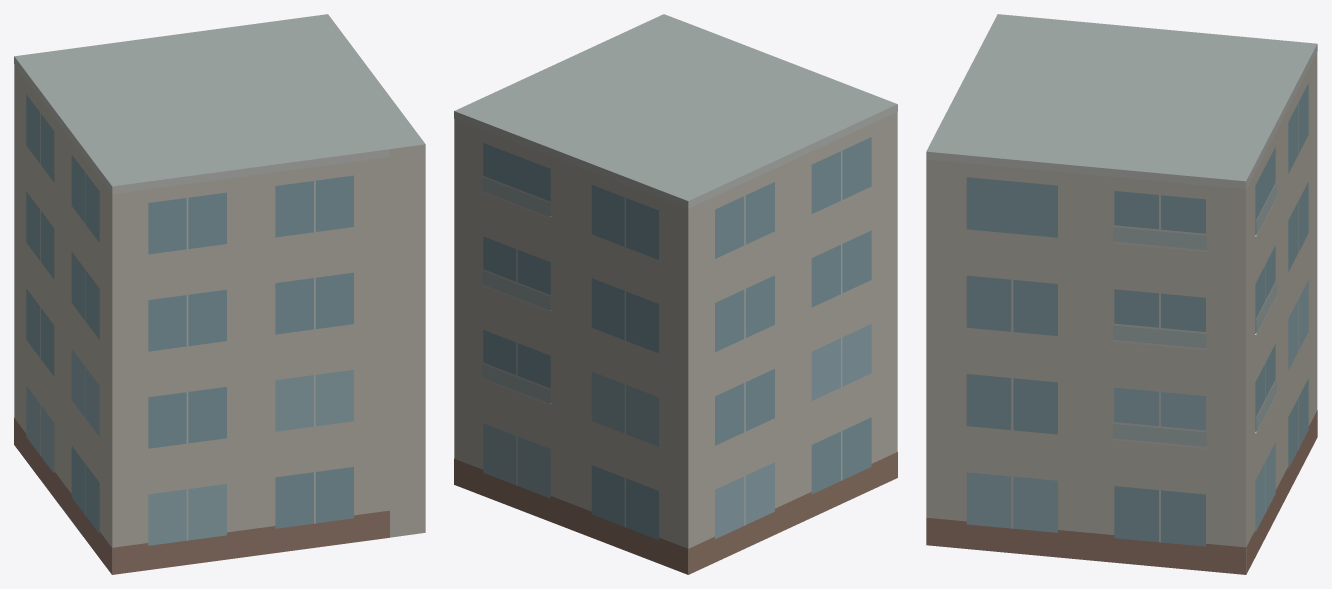
The model's file is residential-f9818ec5-a9d8-417d-984b-2f97bb0a2418.glb.
3 renders of one model, left to right at view 1: azimuth 30°, elevation 25°; view 2: azimuth 150°, elevation 25°; view 3: azimuth 270°, elevation 25°, orthographic. The views are drawn at different scales.
Visible parts, largest first — view 1: residential-f9818ec5-a9d8-417d-984b-2f97bb0a2418.tmp; view 2: residential-f9818ec5-a9d8-417d-984b-2f97bb0a2418.tmp; view 3: residential-f9818ec5-a9d8-417d-984b-2f97bb0a2418.tmp.
Part boxes in pixels (x1,y1,x2,y2): residential-f9818ec5-a9d8-417d-984b-2f97bb0a2418.tmp: (14,14,425,574); residential-f9818ec5-a9d8-417d-984b-2f97bb0a2418.tmp: (454,14,897,574); residential-f9818ec5-a9d8-417d-984b-2f97bb0a2418.tmp: (926,14,1317,574).
Size of the model in its own units: 11.13 by 12.2 by 10.99.
